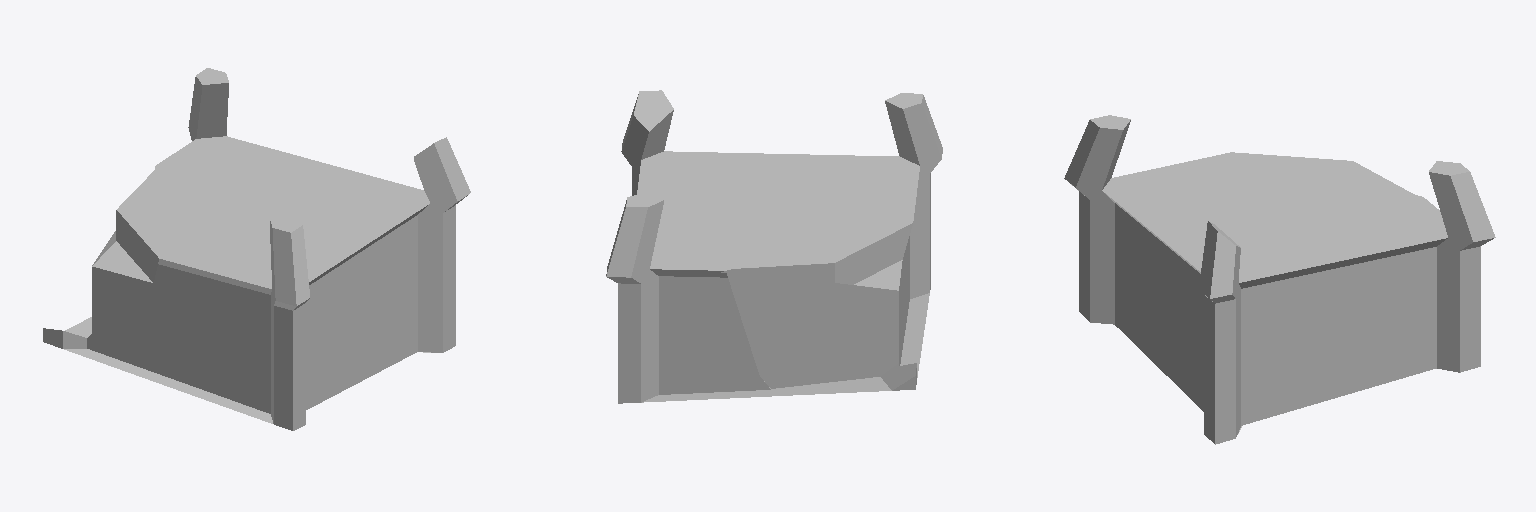
File: Debris4.obj
3 renders of one model, left to right at view 1: azimuth 30°, elevation 25°; view 2: azimuth 150°, elevation 25°; view 3: azimuth 270°, elevation 25°, orthographic.
Visible parts, largest first — view 1: Debris4; view 2: Debris4; view 3: Debris4.
Part boxes in pixels (x1,y1,x2,y2): Debris4: (43, 68, 470, 430); Debris4: (606, 90, 942, 403); Debris4: (1064, 115, 1495, 444).
Bounding box in the file's own units: 5.67 × 3.22 × 5.88.